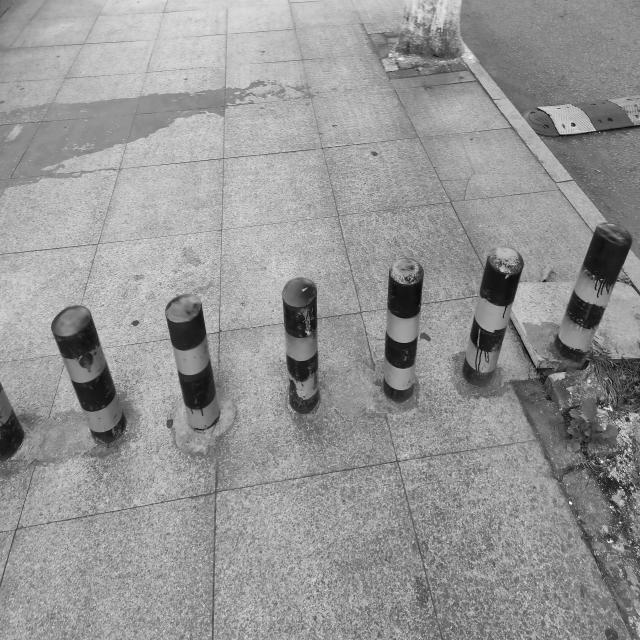warning_column: (555, 220, 633, 362), (51, 304, 125, 444), (162, 290, 221, 432), (465, 245, 523, 386), (377, 254, 428, 402), (280, 276, 323, 412), (1, 382, 25, 457)
